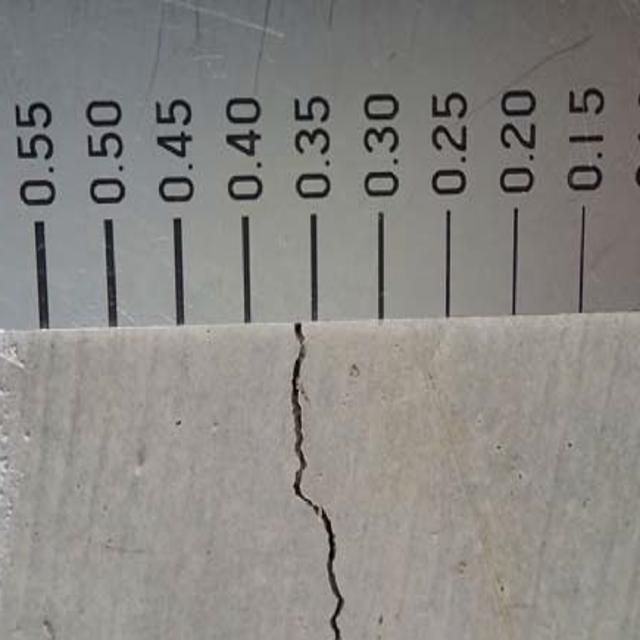crack: (273, 327, 353, 640)
